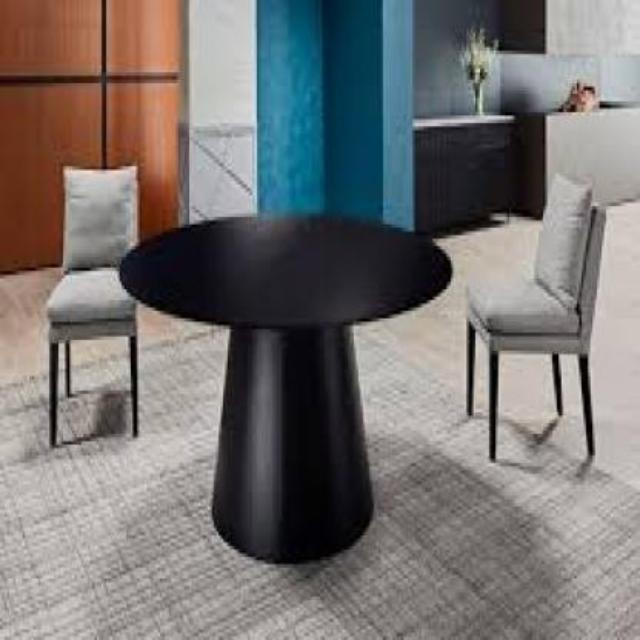chair: (464, 175, 609, 465)
table: (120, 215, 452, 572)
